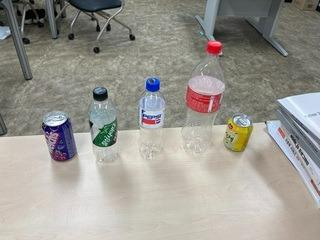BIODEGRADABLE: (179, 38, 226, 160), (86, 85, 122, 164), (135, 73, 166, 161), (39, 107, 79, 163), (224, 112, 254, 154)
